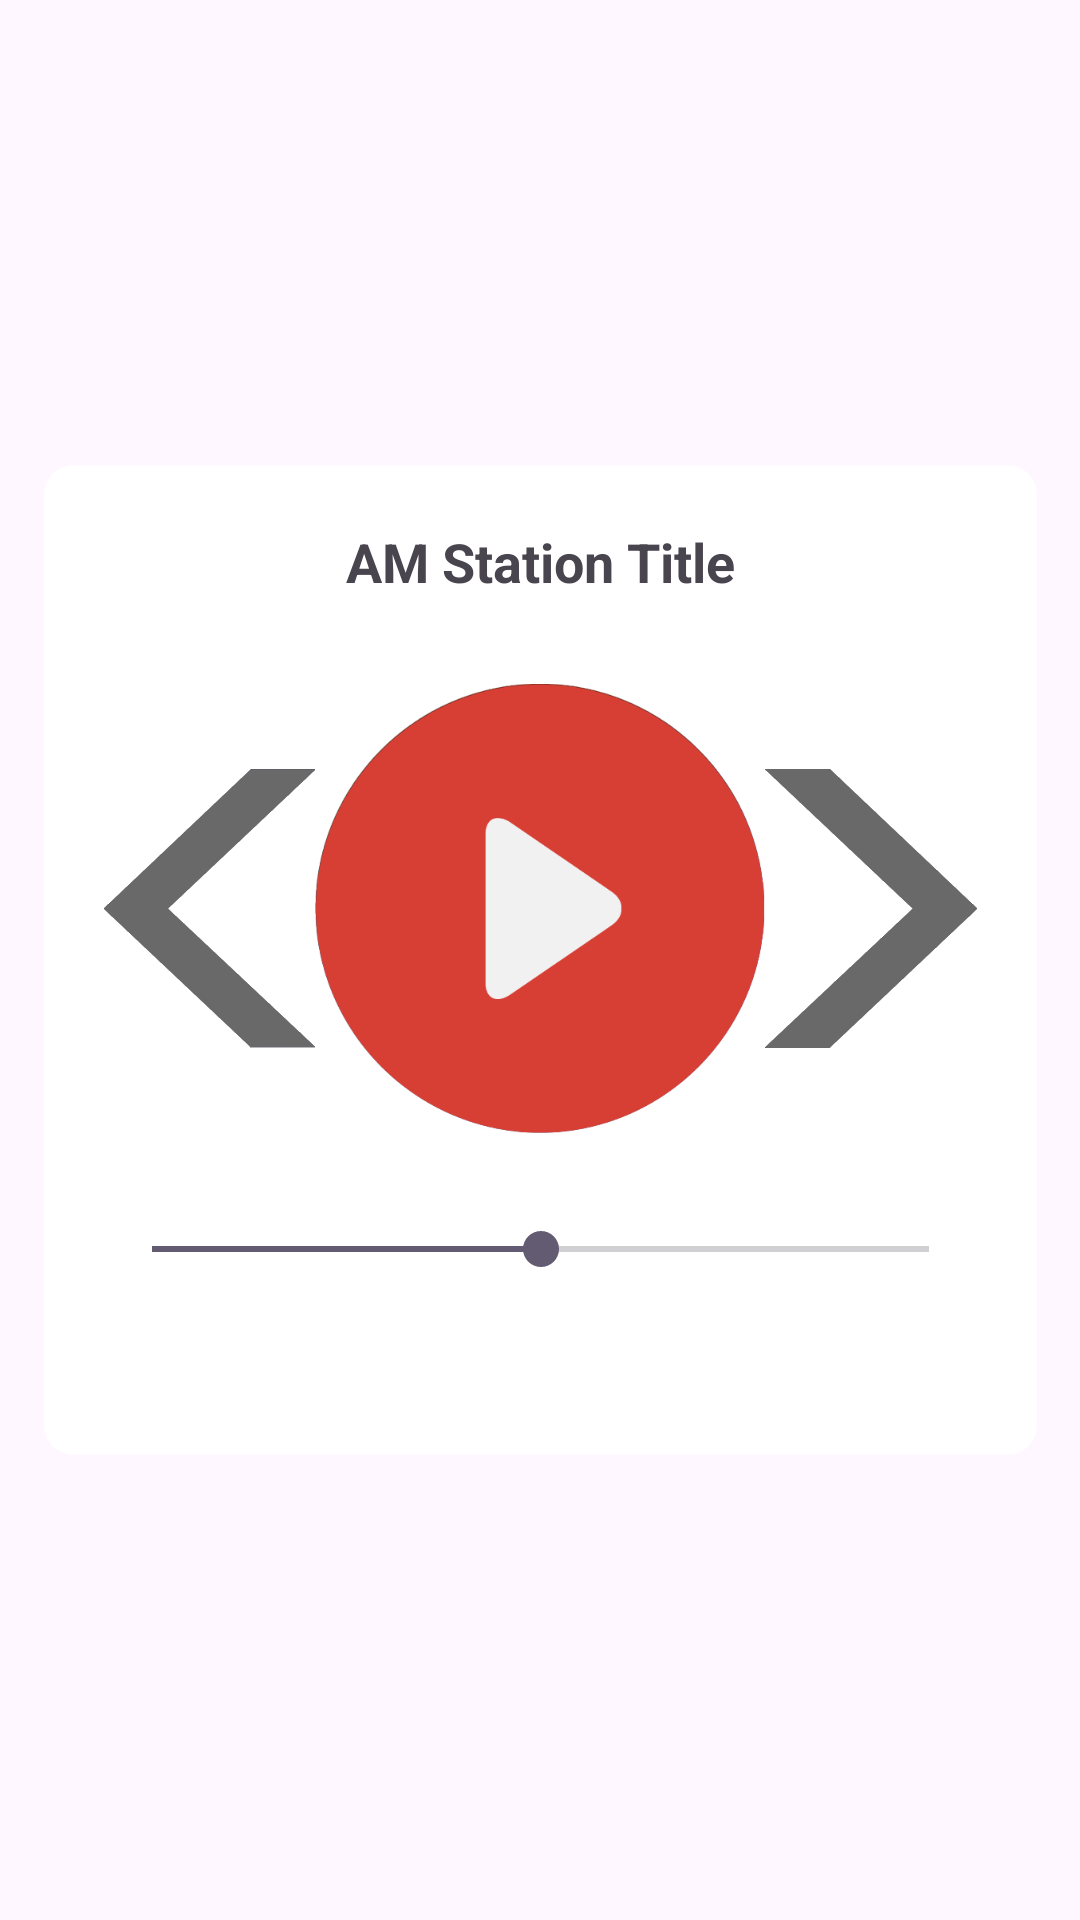

Icons on this 1080 × 1920 Android screen, each with its box as (x1=x1, y1=y1, x2=x2, y2=y2):
imagenextstation: (x1=765, y1=769, x2=977, y2=1048)
